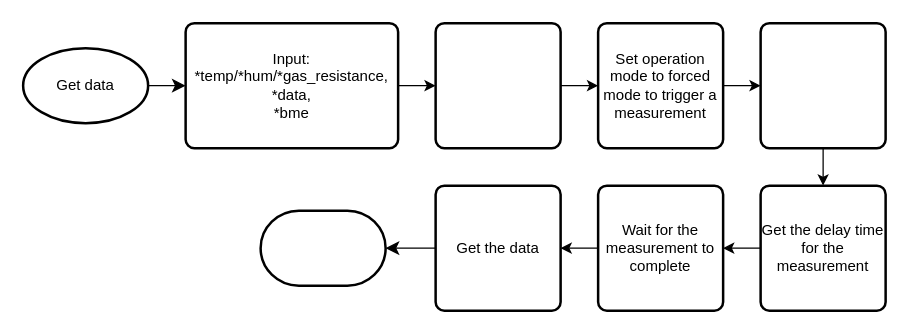
Image size: 908x333. Some labels were removed from this diagram. The shapes that lost their labels are listed below. From the top down, each one's centre as x and y in pixels, then its label:
point 497,85: Check validity of arguments
point 822,85: Create a configuration structure for getting measurement duration
point 322,247: Return to main
